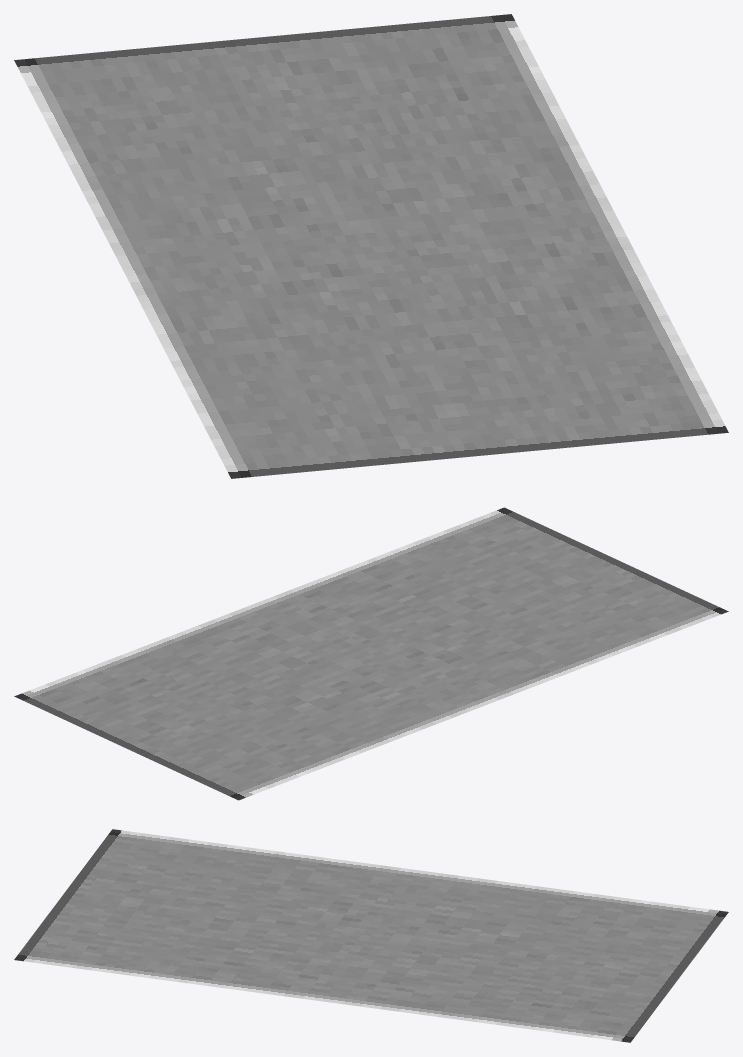
Rendered from primary_036.glb.
3 views of the same model, one above another, from view 1: azimuth 30°, elevation 25°; view 2: azimuth 150°, elevation 25°; view 3: azimuth 270°, elevation 25° (orthographic). The views are drawn at different scales.
Visible parts, largest first — view 1: Object; view 2: Object; view 3: Object.
Boxes of the visible parts, x1,y1,x2,y2 form: Object: (14, 14, 728, 478); Object: (14, 507, 728, 800); Object: (14, 829, 728, 1042).
Bounding box in the file's own units: 2.65 × 3.51e-05 × 3.74.
1 material, 1 textured.
